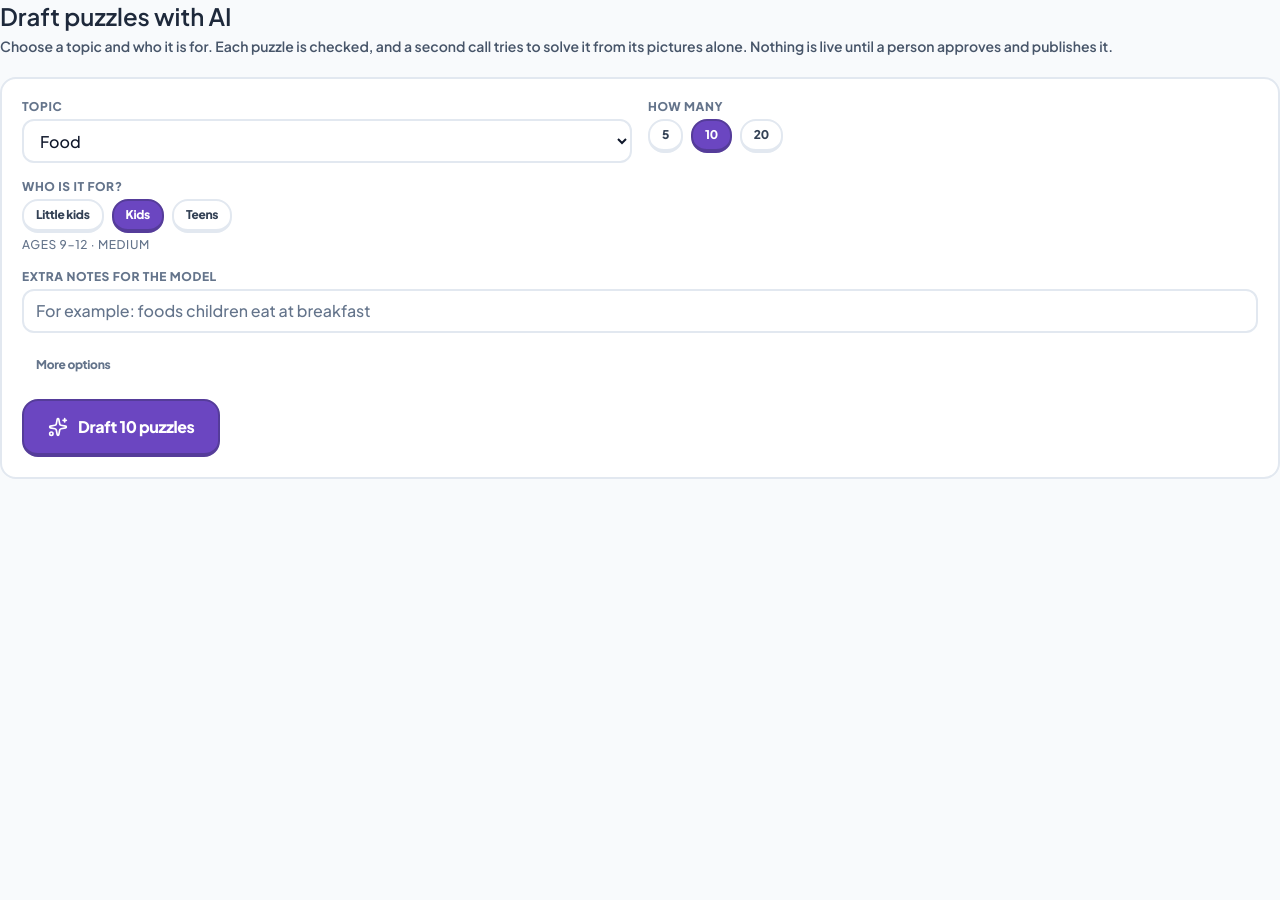
the Generate tab › saves only the keepers, as AI drafts carrying their checks, and says how many
The width and height of the screenshot is (1280, 900).
Click the button "Draft 10 puzzles". click: {"x": 121, "y": 428}
box: [22,399,220,457]
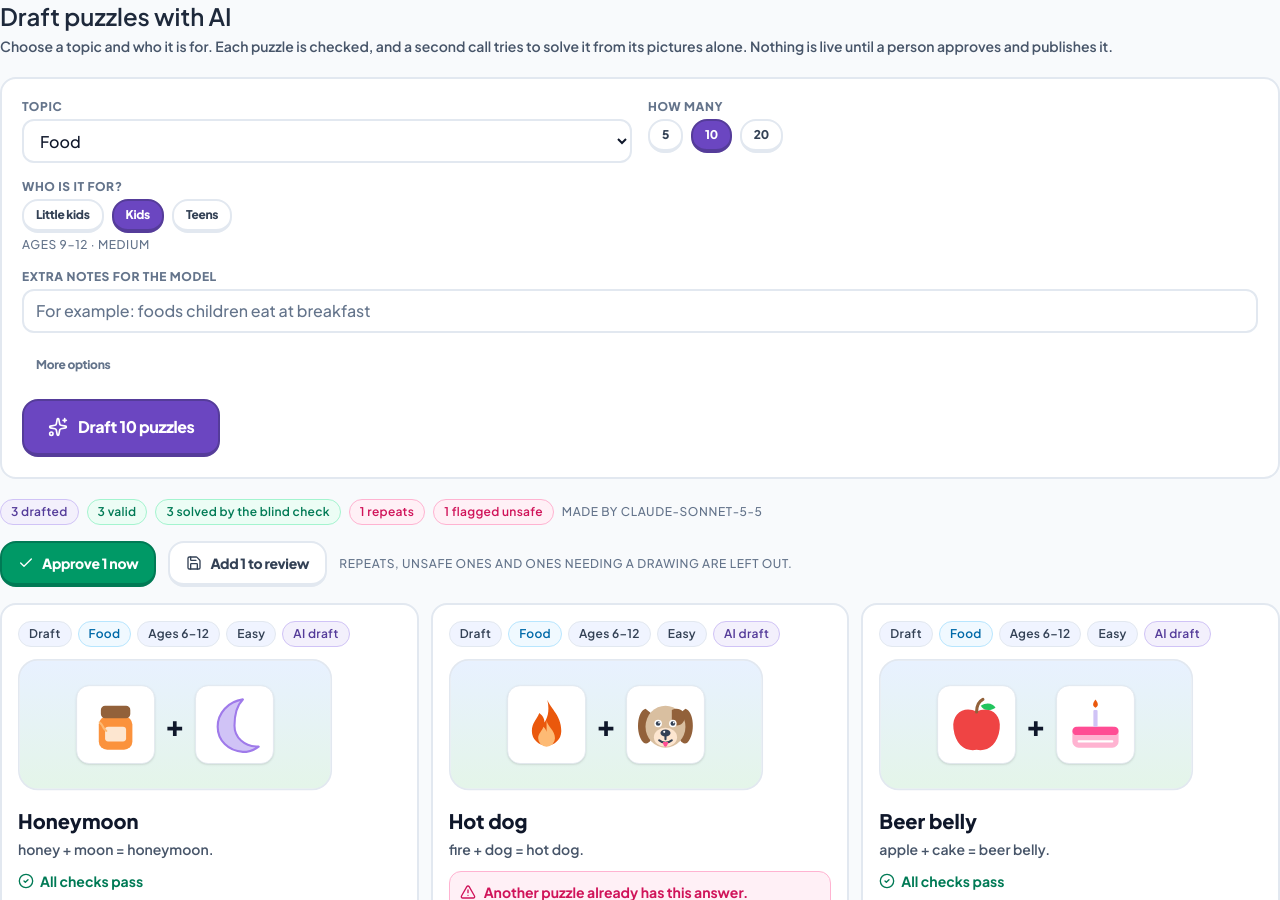
Click the button "Add 1 to review". click: {"x": 248, "y": 564}
box: [168,541,327,587]
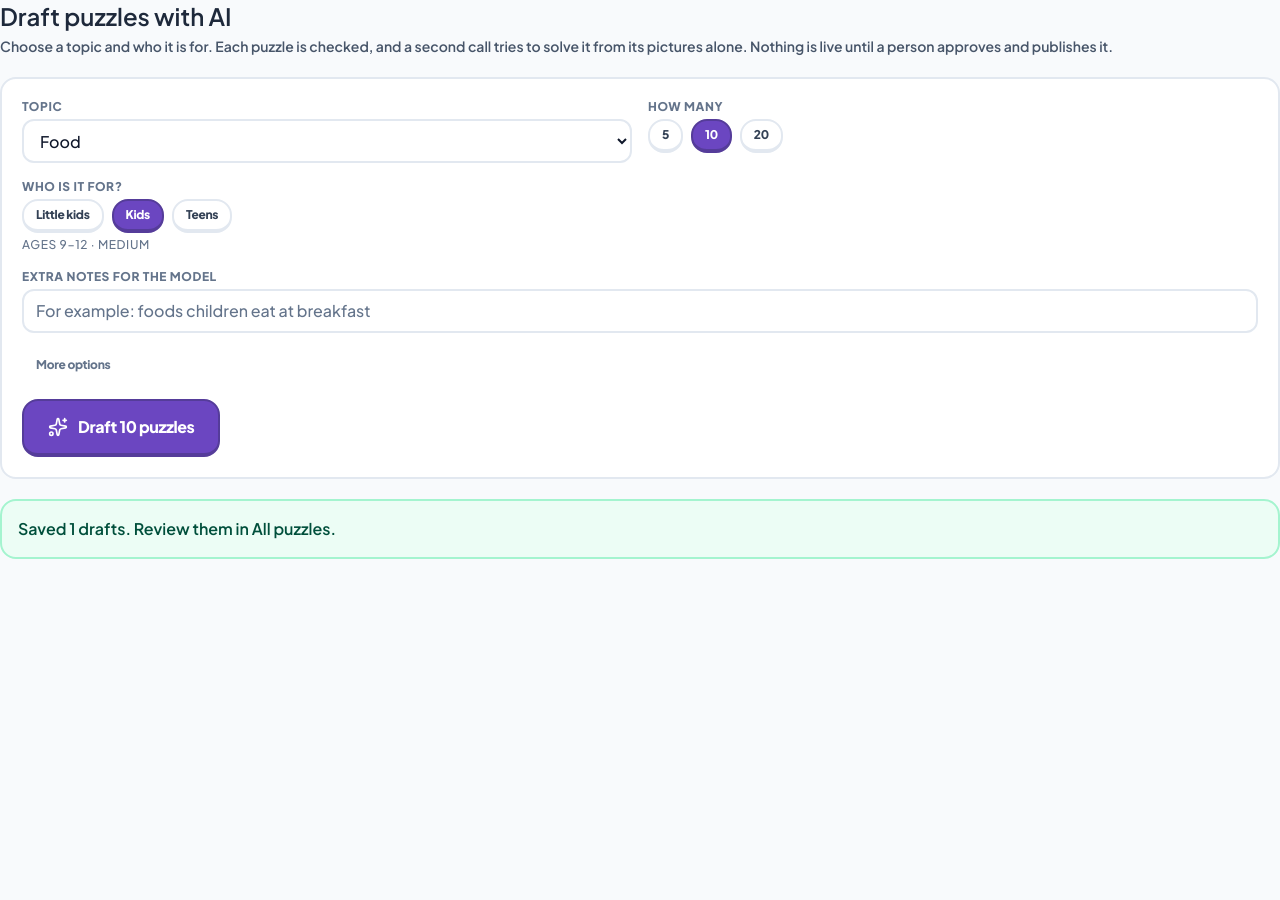
Check: the text "Saved 1 drafts. Review them in All puzzles." is shown, box [0,499,1279,559]
